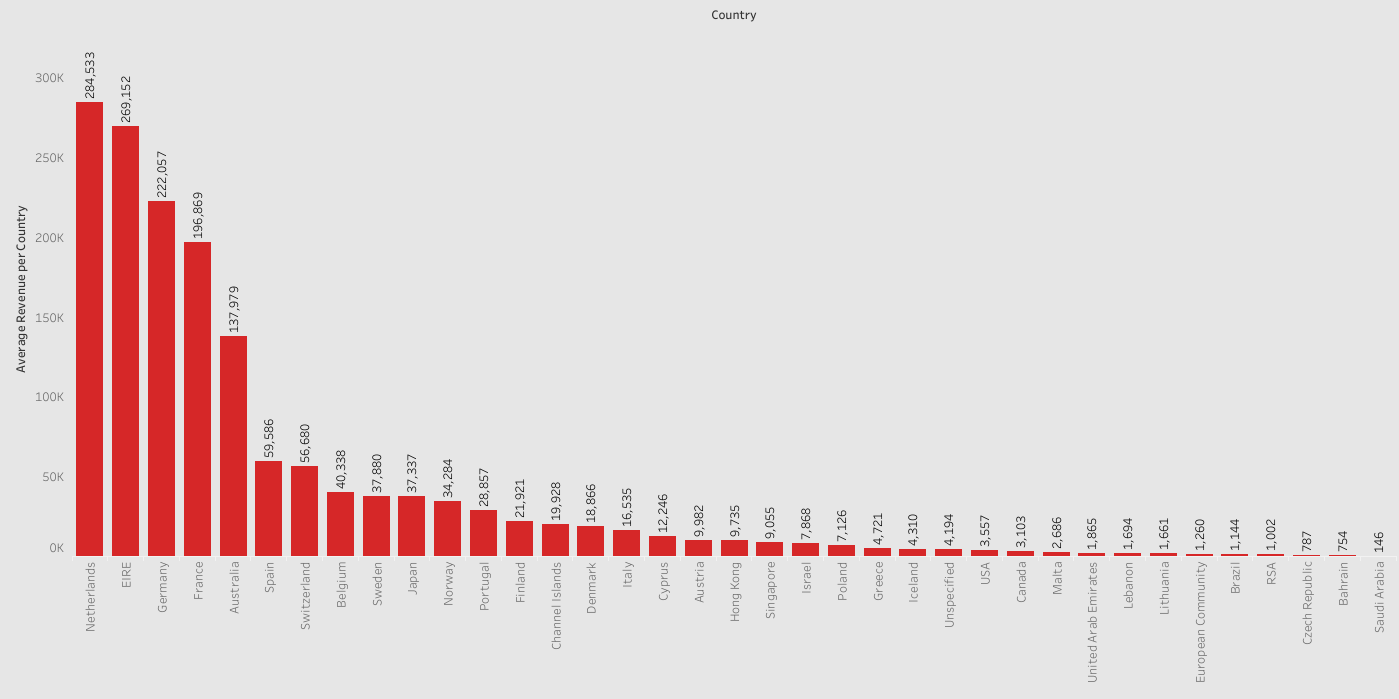

What the dashboard file says about the page in this screenshot:
{"tool":"tableau","page":{"name":"Average_Sales_Revenue","canvas":[1400,700],"ordinal":1},"visuals":[{"type":"worksheet","title":"Average Sales Revenue by Country","mark":"Automatic","rows":["Calculation_246009154778066945"],"cols":["Country"],"box":[0,0,1400,700]}]}

Visuals, with their boxes in screenshot pixels (x1, y1, x2, y2), scaled from the page's 1400x700 canvas onto the 1399x699 screenshot:
"Average Sales Revenue by Country" worksheet: (left=0, top=0, right=1398, bottom=698)
